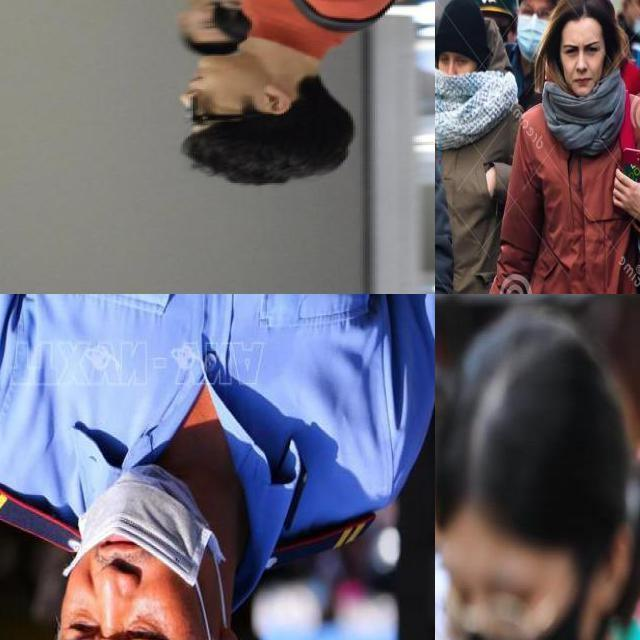hairnet: (56, 463, 209, 601)
